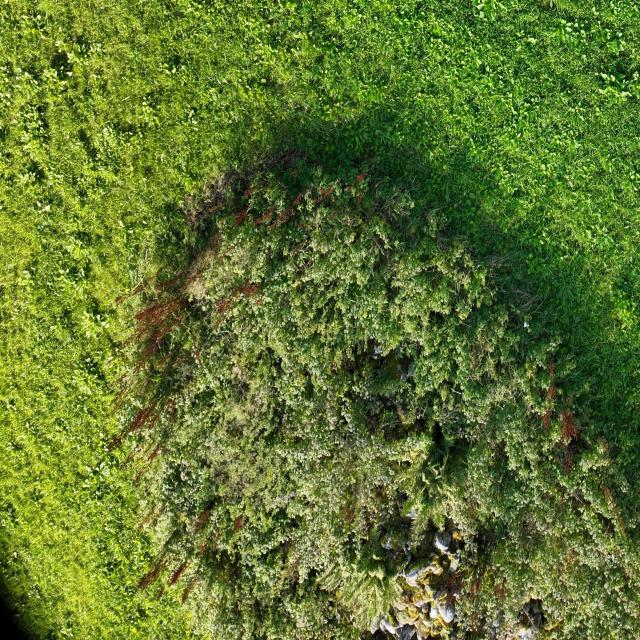rumex: (73, 303, 117, 360), (598, 64, 638, 102), (549, 18, 584, 48), (62, 38, 90, 71), (472, 1, 509, 24), (524, 251, 546, 276), (526, 37, 536, 46), (600, 72, 609, 81), (118, 220, 124, 228)
